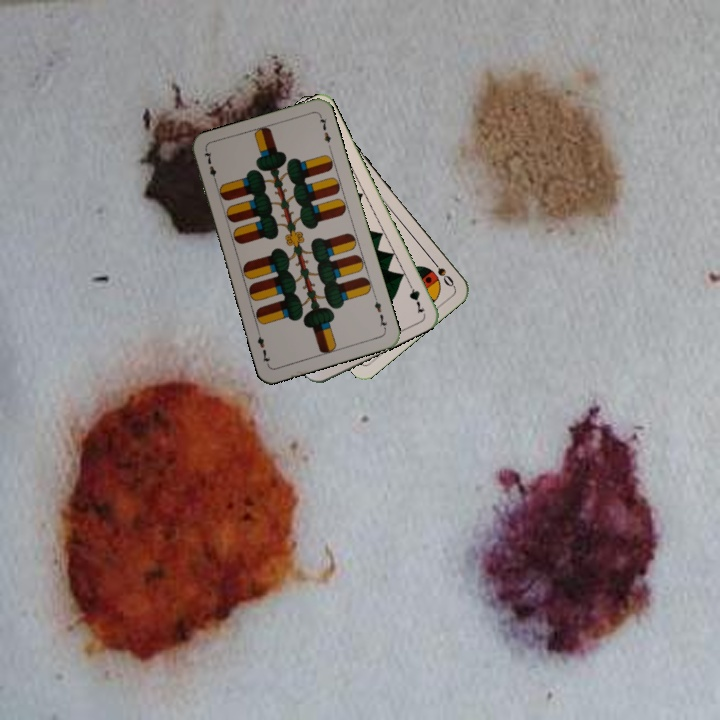E7: (370, 293, 390, 332), (201, 147, 220, 187)
G7: (403, 276, 427, 316)
SO: (427, 255, 457, 289)
